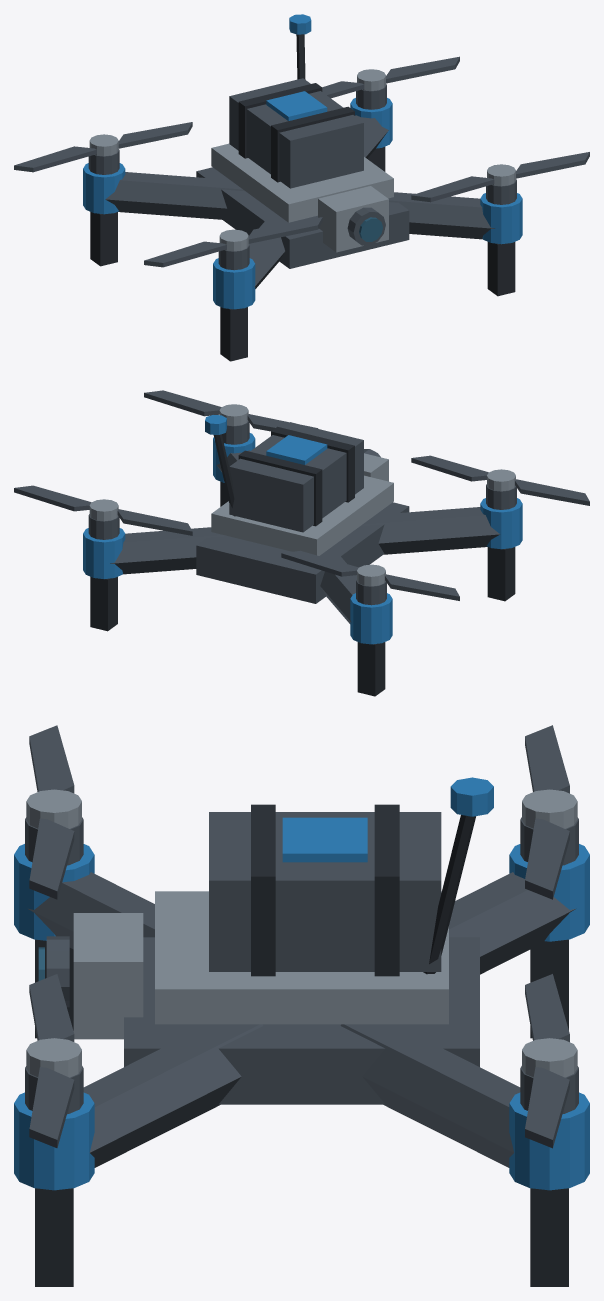
Rendered from FPV_Quadcopter_01.fbx.
3 renders of one model, top to bottom at view 1: azimuth 30°, elevation 25°; view 2: azimuth 150°, elevation 25°; view 3: azimuth 270°, elevation 25°, orthographic. The views are drawn at different scales.
Parts seen in each view (by area): view 1: FPV_Quadcopter_01_Frame_Motors, FPV_Quadcopter_01_Battery, FPV_Quadcopter_01_FrontCamera, FPV_Quadcopter_01_Propeller_FL, FPV_Quadcopter_01_Propeller_RL, FPV_Quadcopter_01_Propeller_FR, FPV_Quadcopter_01_Propeller_RR, FPV_Quadcopter_01_Antenna_Visual; view 2: FPV_Quadcopter_01_Frame_Motors, FPV_Quadcopter_01_Battery, FPV_Quadcopter_01_Propeller_RR, FPV_Quadcopter_01_Propeller_FL, FPV_Quadcopter_01_Propeller_RL, FPV_Quadcopter_01_Propeller_FR, FPV_Quadcopter_01_Antenna_Visual, FPV_Quadcopter_01_FrontCamera; view 3: FPV_Quadcopter_01_Frame_Motors, FPV_Quadcopter_01_Battery, FPV_Quadcopter_01_FrontCamera, FPV_Quadcopter_01_Propeller_FR, FPV_Quadcopter_01_Propeller_FL, FPV_Quadcopter_01_Propeller_RL, FPV_Quadcopter_01_Propeller_RR, FPV_Quadcopter_01_Antenna_Visual.
Part boxes in pixels (x1,y1,x2,y2): FPV_Quadcopter_01_Frame_Motors: [83, 84, 522, 361]; FPV_Quadcopter_01_Battery: [229, 78, 363, 188]; FPV_Quadcopter_01_FrontCamera: [318, 186, 388, 252]; FPV_Quadcopter_01_Propeller_FL: [144, 217, 322, 267]; FPV_Quadcopter_01_Propeller_RL: [14, 122, 192, 172]; FPV_Quadcopter_01_Propeller_FR: [411, 152, 589, 202]; FPV_Quadcopter_01_Propeller_RR: [322, 56, 459, 98]; FPV_Quadcopter_01_Antenna_Visual: [289, 14, 311, 79]; FPV_Quadcopter_01_Frame_Motors: [83, 421, 522, 696]; FPV_Quadcopter_01_Battery: [229, 422, 363, 532]; FPV_Quadcopter_01_Propeller_RR: [14, 485, 192, 535]; FPV_Quadcopter_01_Propeller_FL: [411, 455, 589, 505]; FPV_Quadcopter_01_Propeller_RL: [281, 550, 459, 600]; FPV_Quadcopter_01_Propeller_FR: [144, 390, 318, 431]; FPV_Quadcopter_01_Antenna_Visual: [205, 415, 235, 516]; FPV_Quadcopter_01_FrontCamera: [364, 449, 388, 481]; FPV_Quadcopter_01_Frame_Motors: [14, 817, 589, 1286]; FPV_Quadcopter_01_Battery: [209, 804, 441, 976]; FPV_Quadcopter_01_FrontCamera: [38, 913, 143, 1039]; FPV_Quadcopter_01_Propeller_FR: [26, 974, 81, 1147]; FPV_Quadcopter_01_Propeller_FL: [26, 725, 81, 899]; FPV_Quadcopter_01_Propeller_RL: [522, 725, 577, 899]; FPV_Quadcopter_01_Propeller_RR: [522, 974, 577, 1148]; FPV_Quadcopter_01_Antenna_Visual: [423, 777, 493, 974].
Bounding box in the file's own units: 0.634 × 0.29 × 0.372.
